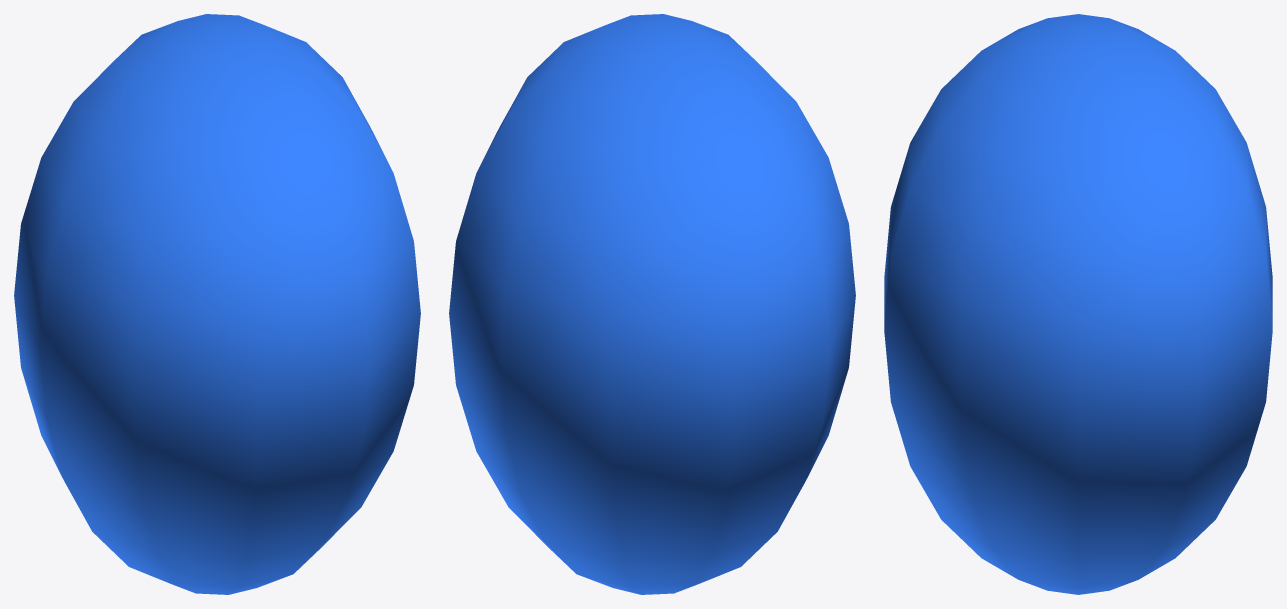
The model's file is aquasprite_stage2.obj.
3 renders of one model, left to right at view 1: azimuth 30°, elevation 25°; view 2: azimuth 150°, elevation 25°; view 3: azimuth 270°, elevation 25°, orthographic.
Size of the model in its own units: 2 by 3 by 1.9.
